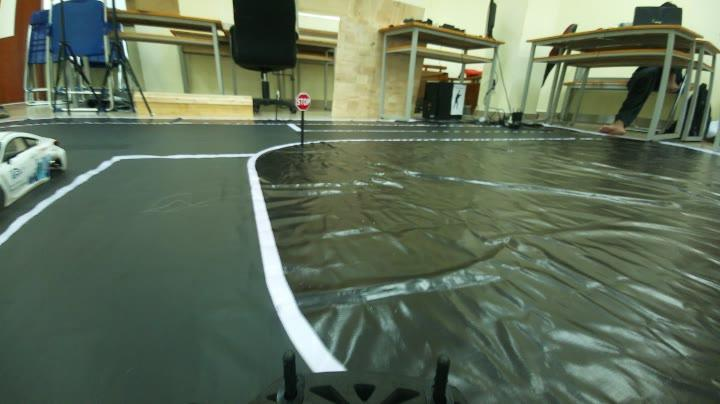car: (0, 126, 66, 216)
stop: (290, 92, 315, 116)
